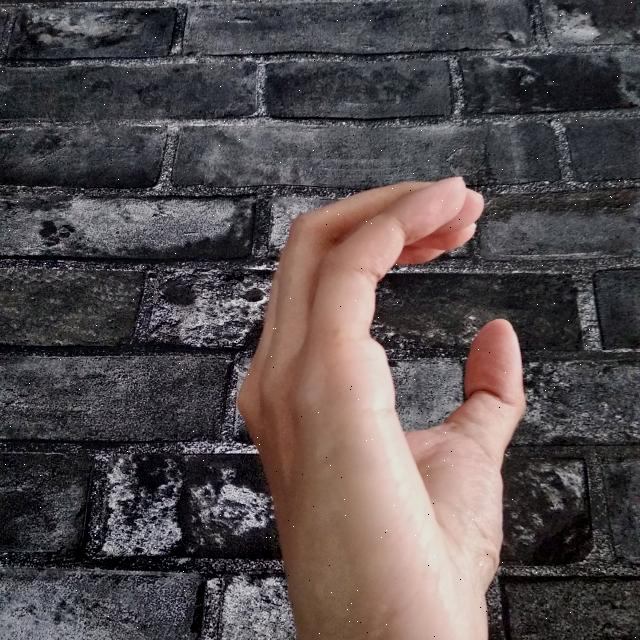C: (232, 170, 536, 640)
